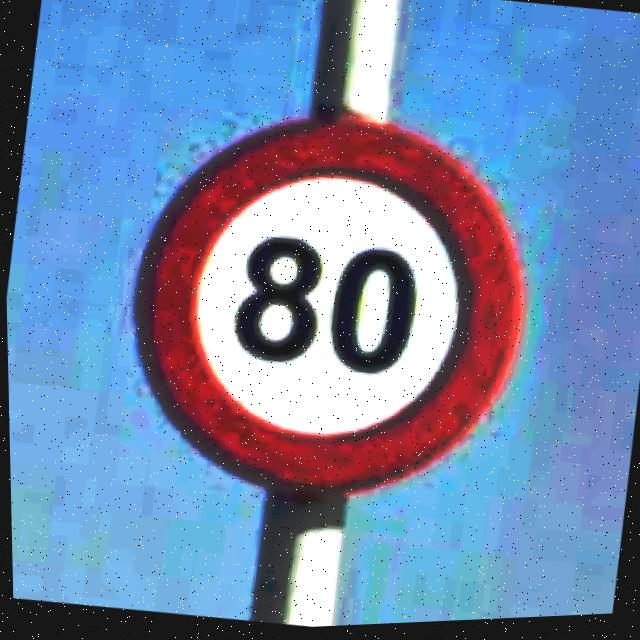max80: (104, 82, 550, 533)
